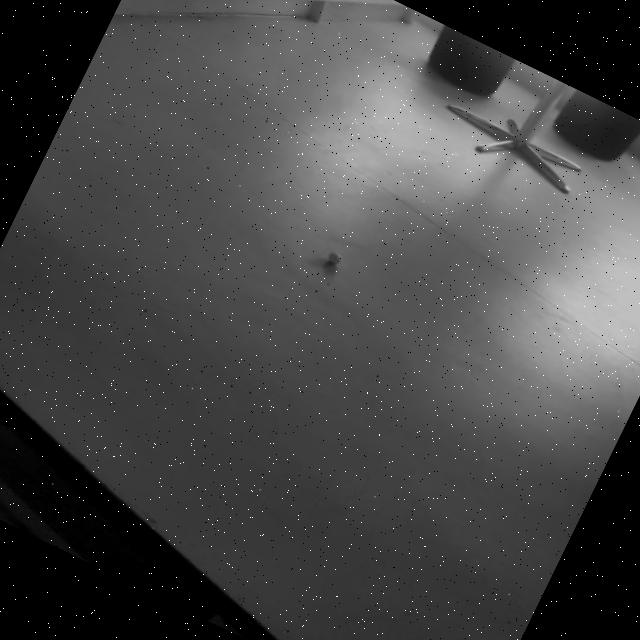ping-pong-ball: (324, 249, 344, 268)
